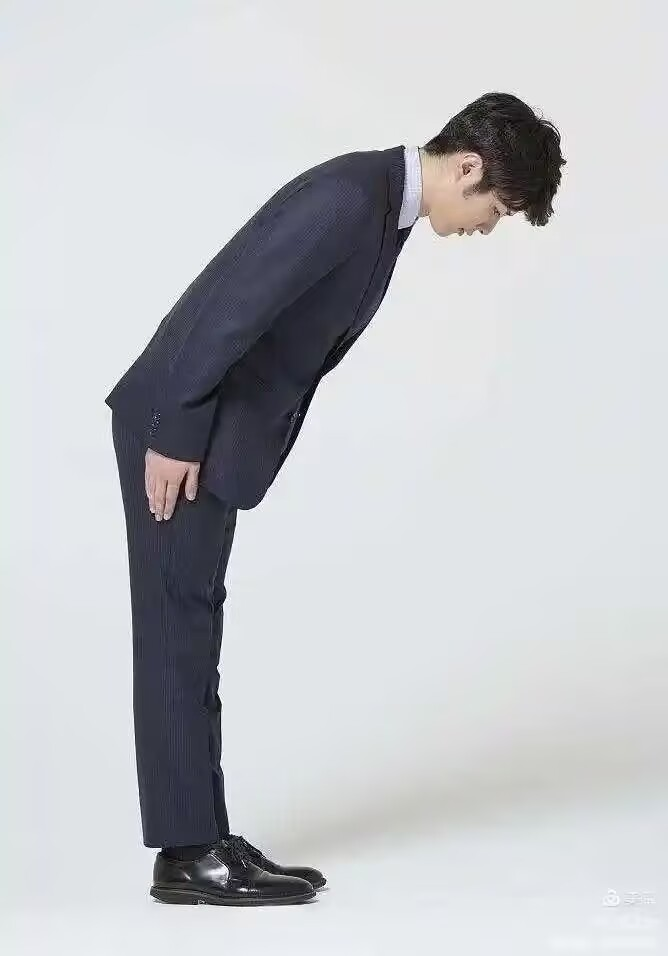bending: (93, 76, 573, 923)
